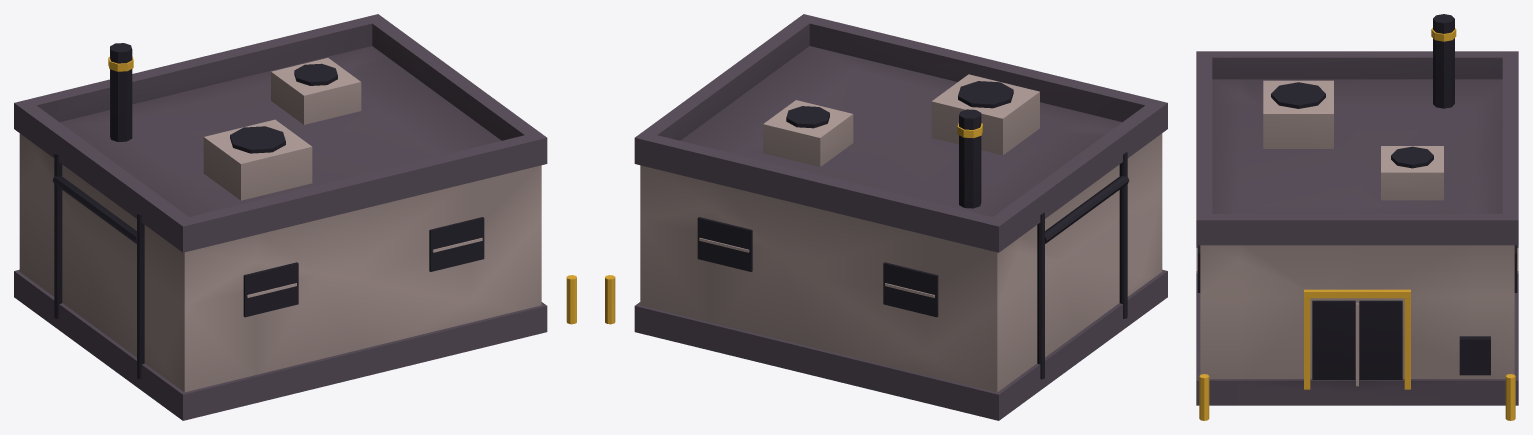
The picture shows the model from 3 angles, left to right: view 1: azimuth 30°, elevation 25°; view 2: azimuth 150°, elevation 25°; view 3: azimuth 270°, elevation 25°; orthographic projection. The views are drawn at different scales.
Parts seen in each view (by area): view 1: body_pal_asphalt, body_pal_sidewalk, body_pal_uiDark, body_pal_schoolBusYellow; view 2: body_pal_asphalt, body_pal_sidewalk, body_pal_uiDark, body_pal_schoolBusYellow; view 3: body_pal_asphalt, body_pal_sidewalk, body_pal_uiDark, body_pal_schoolBusYellow.
Part boxes in pixels (left/top/right/bottom): body_pal_asphalt: left=14, top=14, right=547, bottom=420; body_pal_sidewalk: left=19, top=58, right=541, bottom=392; body_pal_uiDark: left=52, top=43, right=484, bottom=379; body_pal_schoolBusYellow: left=108, top=56, right=576, bottom=324; body_pal_asphalt: left=634, top=14, right=1167, bottom=420; body_pal_sidewalk: left=640, top=74, right=1162, bottom=392; body_pal_uiDark: left=697, top=81, right=1129, bottom=379; body_pal_schoolBusYellow: left=605, top=123, right=982, bottom=324; body_pal_asphalt: left=1196, top=51, right=1518, bottom=405; body_pal_sidewalk: left=1196, top=80, right=1518, bottom=386; body_pal_uiDark: left=1197, top=14, right=1517, bottom=379; body_pal_schoolBusYellow: left=1199, top=28, right=1515, bottom=420.
Size of the model in its own units: 11.26 by 7 by 8.2.
